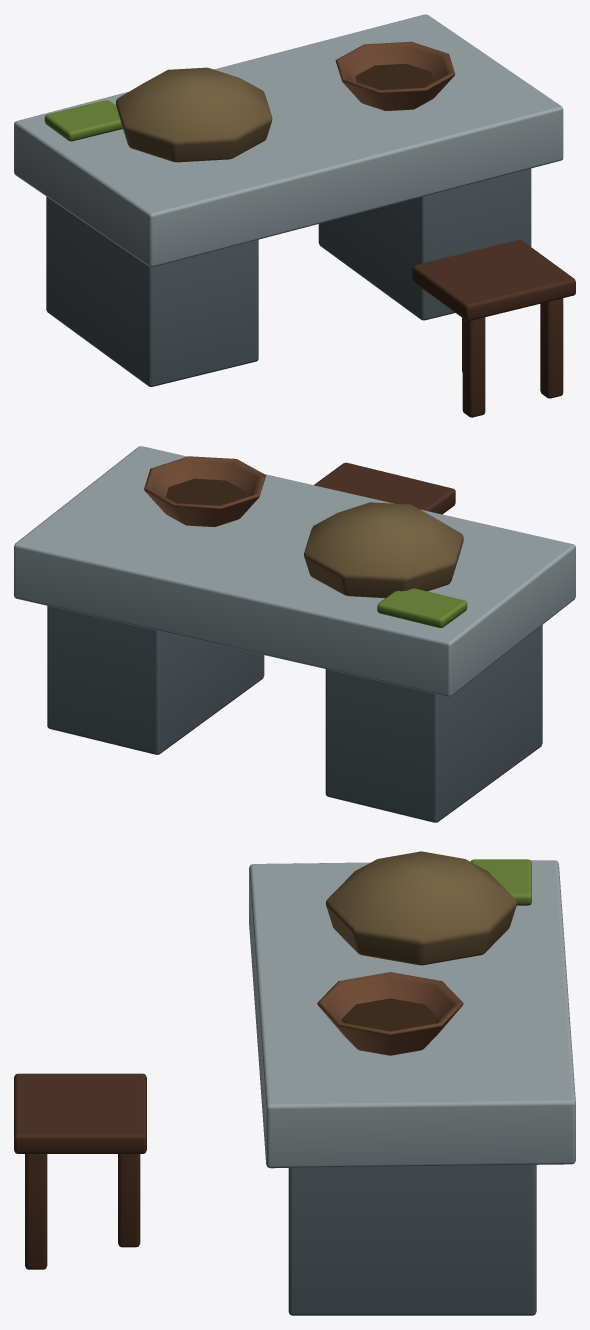
The model's file is sin_stone.glb.
3 views of the same model, one above another, from view 1: azimuth 30°, elevation 25°; view 2: azimuth 150°, elevation 25°; view 3: azimuth 270°, elevation 25° (orthographic). The views are drawn at different scales.
Parts seen in each view (by area): view 1: sin_stone, sin_stone_trim; view 2: sin_stone, sin_stone_trim; view 3: sin_stone, sin_stone_trim.
Part boxes in pixels (bbox=[...]): sin_stone: bbox=[14, 14, 575, 417]; sin_stone_trim: bbox=[355, 63, 433, 89]; sin_stone: bbox=[14, 446, 575, 822]; sin_stone_trim: bbox=[165, 478, 245, 505]; sin_stone: bbox=[14, 851, 575, 1315]; sin_stone_trim: bbox=[341, 998, 438, 1031].
Bounding box in the file's own units: 1.32 × 0.71 × 1.27.
